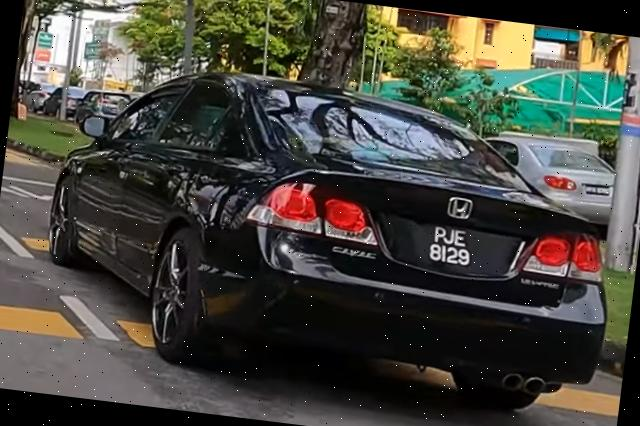License_Plate: (393, 220, 513, 278)
car: (32, 51, 633, 422)
